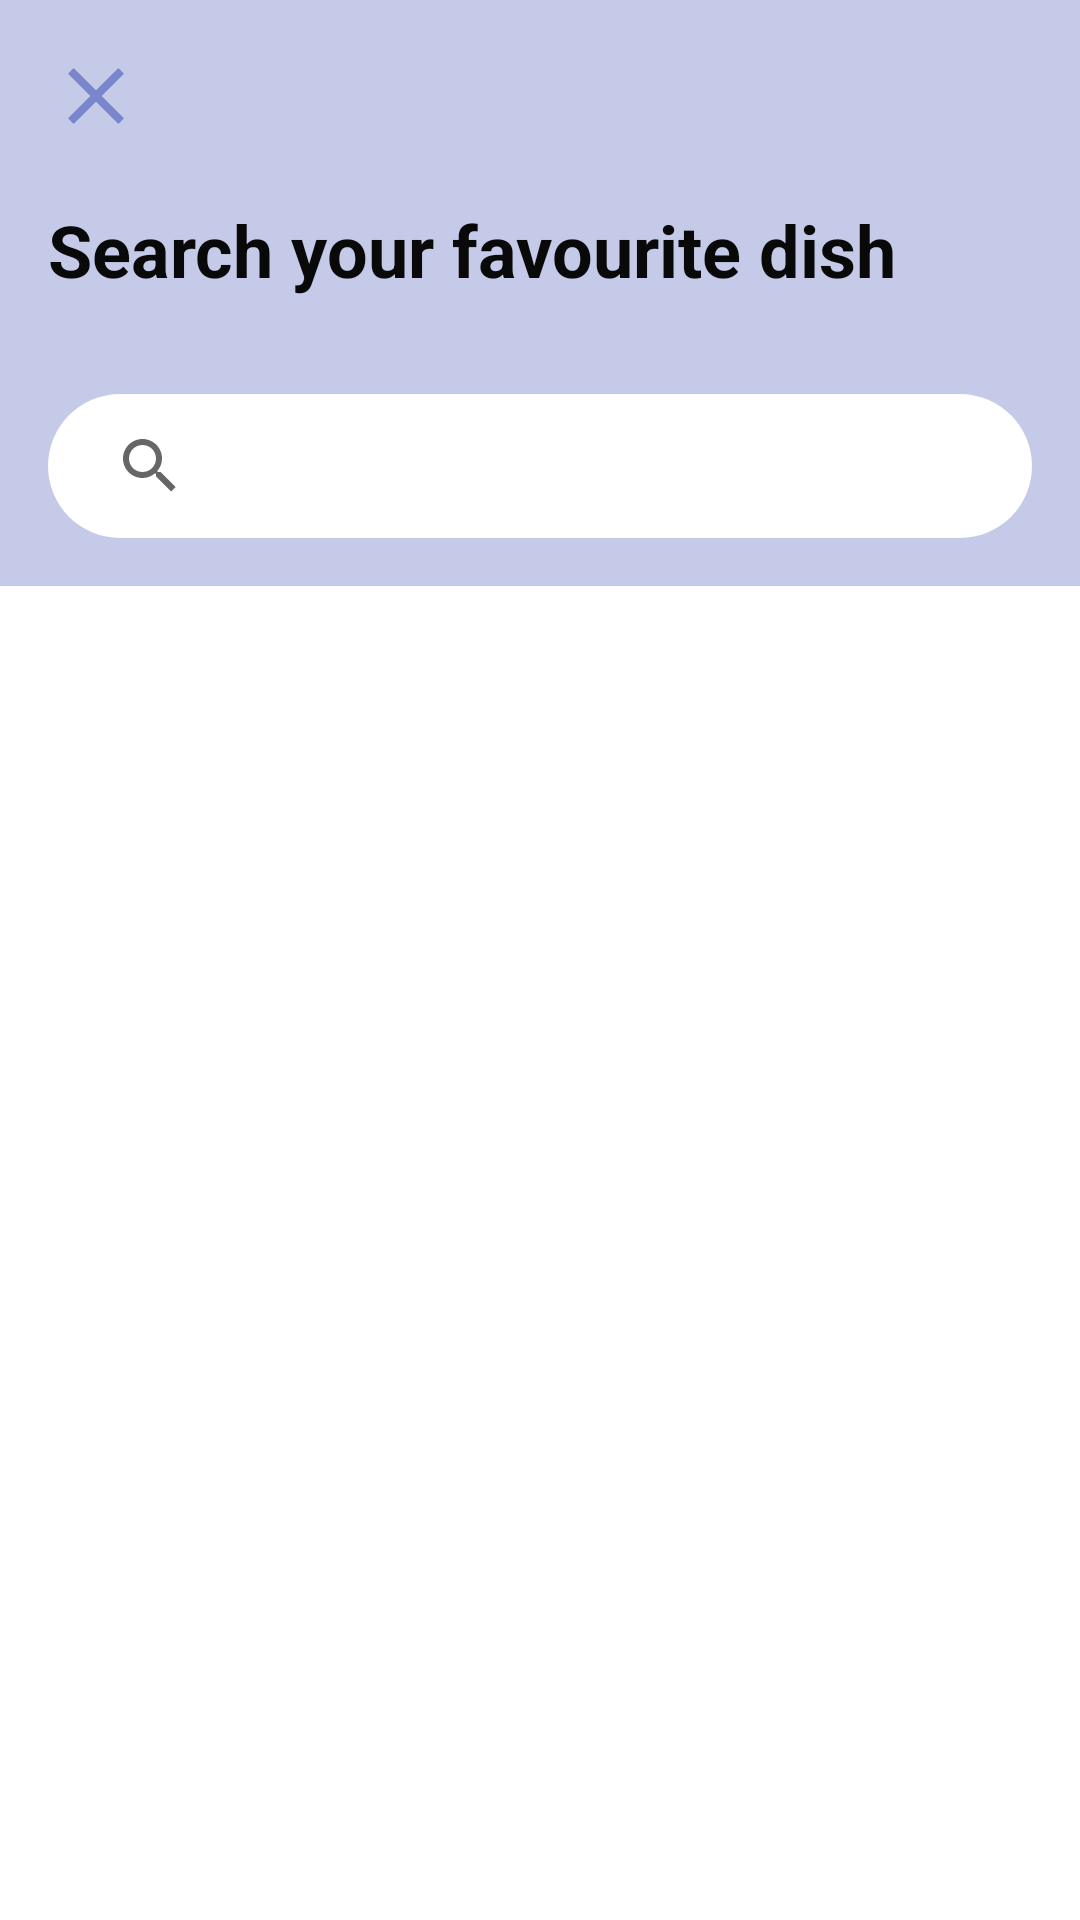

Icons on this 1080w x 1920h Android screen, each with the point to tap as [x,y]:
close: [96,96]
